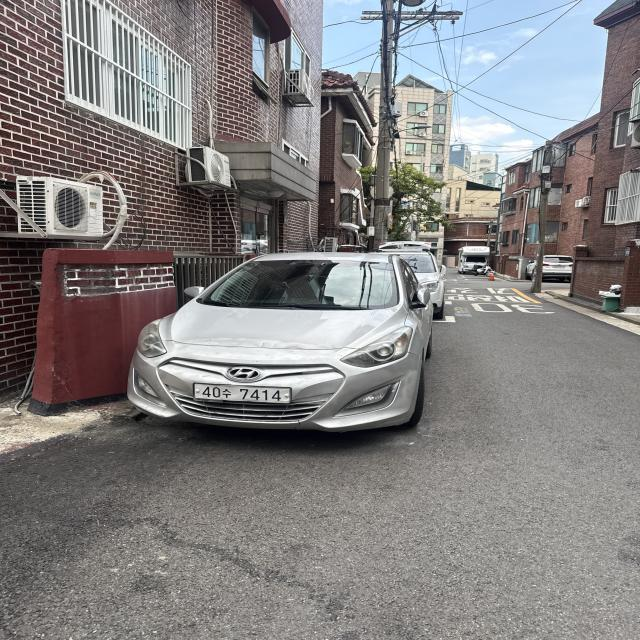car: (87, 215, 479, 469)
